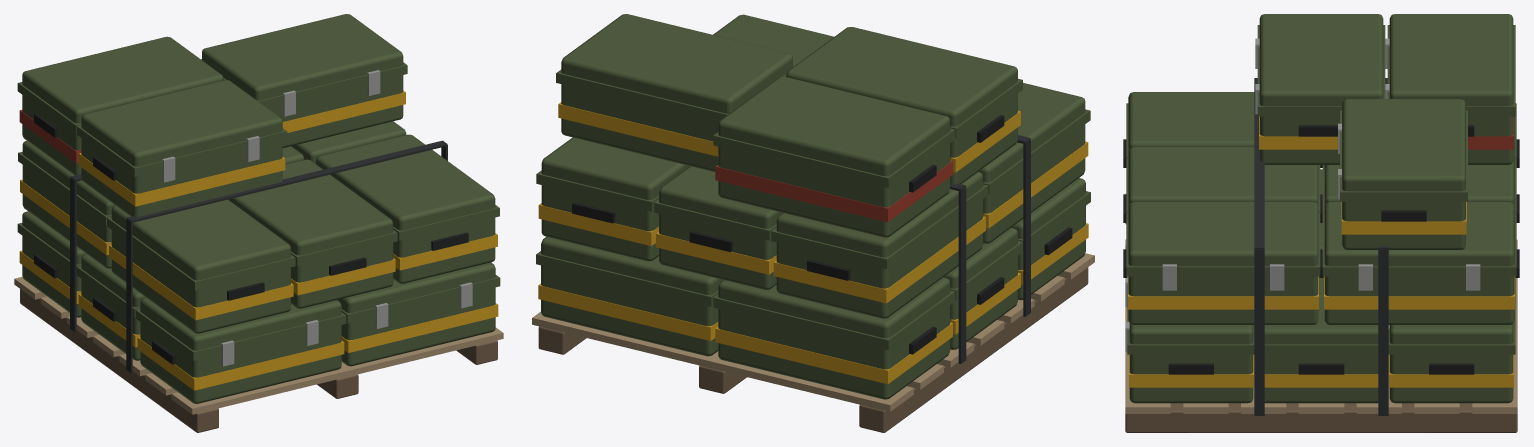
File: pallet.glb
3 renders of one model, left to right at view 1: azimuth 30°, elevation 25°; view 2: azimuth 150°, elevation 25°; view 3: azimuth 270°, elevation 25°, orthographic. The views are drawn at different scales.
Visible parts, largest first — view 1: paint-olive, paint-yellow, planks, planks-dark, steel-dark, rubber, steel, paint-red; view 2: paint-olive, paint-yellow, planks, planks-dark, rubber, paint-red, steel-dark; view 3: paint-olive, paint-yellow, planks-dark, steel-dark, planks, rubber, steel, paint-red.
Part boxes in pixels (left/top/right/bottom): paint-olive: left=17, top=14, right=500, bottom=403; paint-yellow: left=19, top=90, right=498, bottom=390; planks: left=14, top=276, right=503, bottom=414; planks-dark: left=20, top=289, right=497, bottom=432; steel-dark: left=70, top=140, right=447, bottom=372; rubber: left=34, top=113, right=468, bottom=364; steel: left=162, top=70, right=472, bottom=366; paint-red: left=19, top=110, right=81, bottom=163; paint-olive: left=536, top=14, right=1090, bottom=399; paint-yellow: left=538, top=102, right=1088, bottom=384; planks: left=532, top=253, right=1094, bottom=411; planks-dark: left=538, top=267, right=1088, bottom=432; rubber: left=572, top=115, right=1072, bottom=354; paint-red: left=715, top=160, right=952, bottom=222; steel-dark: left=950, top=135, right=1030, bottom=363; paint-olive: left=1126, top=14, right=1516, bottom=403; paint-yellow: left=1128, top=116, right=1514, bottom=387; planks-dark: left=1125, top=403, right=1517, bottom=432; steel-dark: left=1254, top=78, right=1388, bottom=415; planks: left=1125, top=239, right=1517, bottom=413; rubber: left=1123, top=125, right=1519, bottom=374; steel: left=1125, top=38, right=1480, bottom=352; paint-red: left=1468, top=116, right=1513, bottom=149.
Size of the model in its own units: 1.96 by 1.38 by 1.92.
